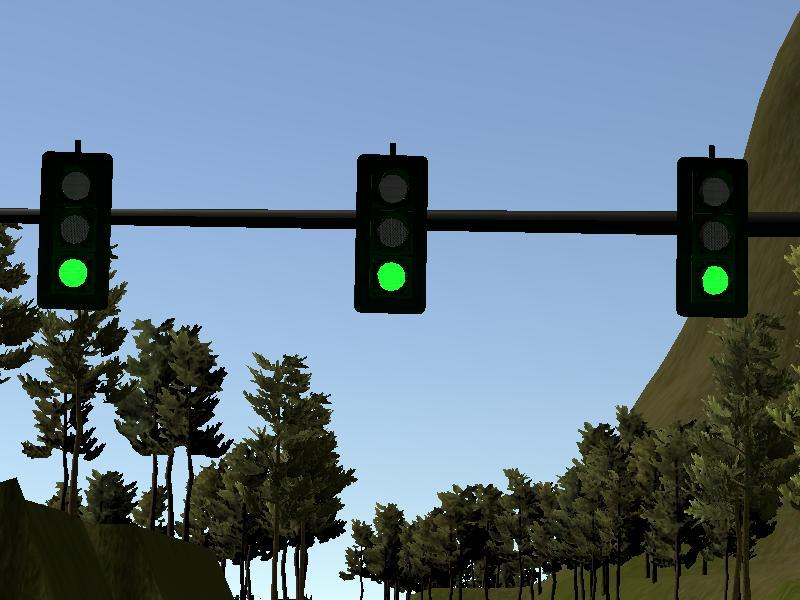Green: (679, 160, 747, 314), (359, 155, 426, 311), (44, 153, 107, 307)
